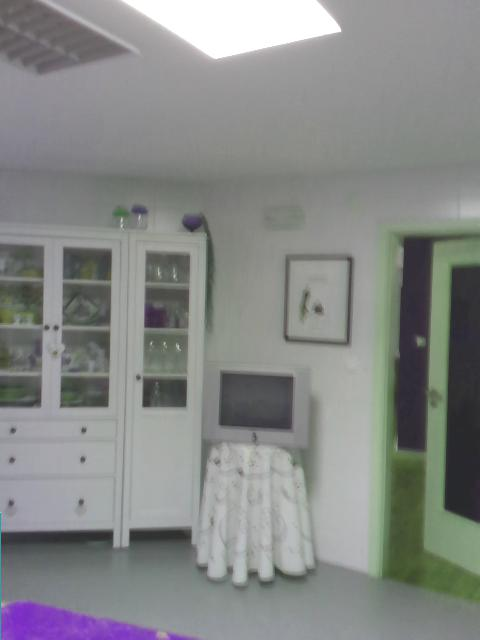semi_door: (367, 222, 478, 594)
